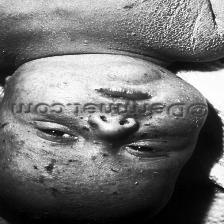Non-Cancerous Skin Condition: (137, 0, 212, 55), (138, 129, 166, 139), (40, 162, 56, 174), (1, 119, 12, 131), (89, 122, 99, 131)
